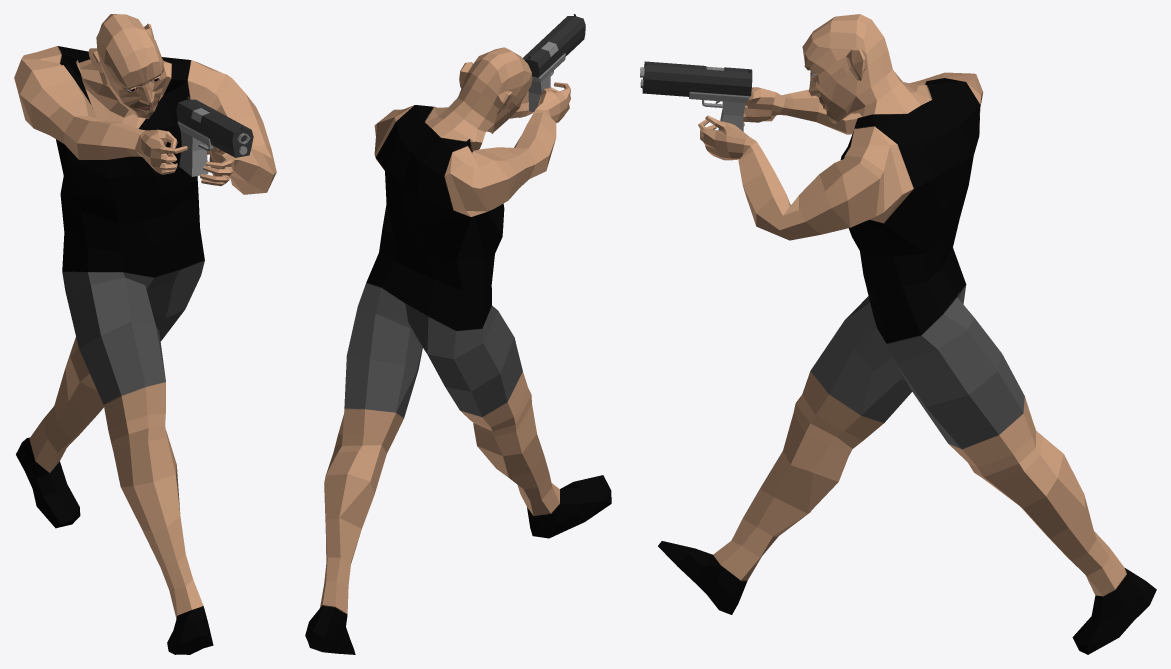
The model's file is PlayerWalk(16).obj.
The picture shows the model from 3 angles, left to right: view 1: azimuth 30°, elevation 25°; view 2: azimuth 150°, elevation 25°; view 3: azimuth 270°, elevation 25°; orthographic projection. The views are drawn at different scales.
Visible parts, largest first — view 1: Plane002, Box003; view 2: Plane002, Box003; view 3: Plane002, Box003.
Part boxes in pixels (bbox=[...]): Plane002: bbox=[14, 14, 276, 654]; Box003: bbox=[176, 96, 253, 176]; Plane002: bbox=[305, 47, 611, 654]; Box003: bbox=[523, 14, 585, 111]; Plane002: bbox=[658, 14, 1156, 654]; Box003: bbox=[640, 61, 752, 131].
Size of the model in its own units: 549 by 1679 by 1304.
